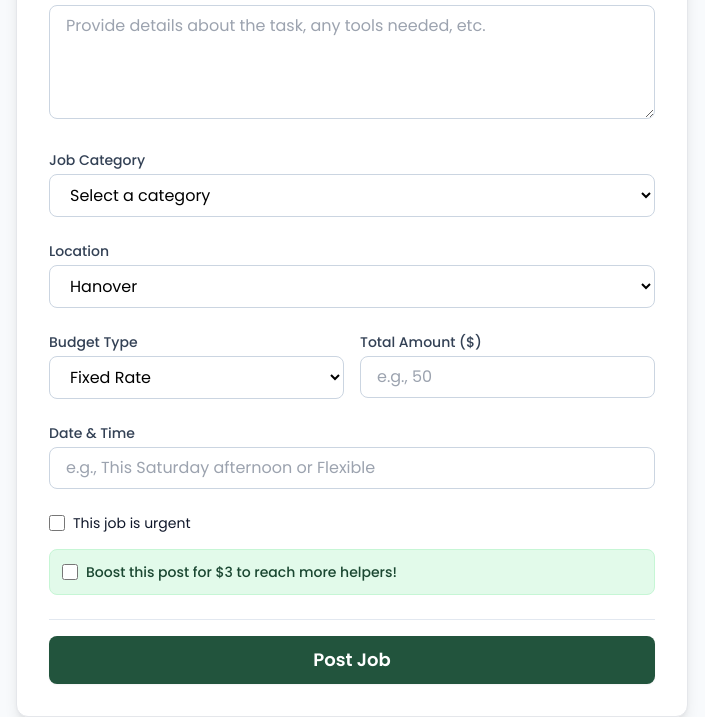
Test: PostJobPage › shows validation errors when submitting an empty form
(page scrolled)
Find and click the submit button
Click the button "Post Job" at (352, 660), box 49,636 -> 655,684
(page scrolled)
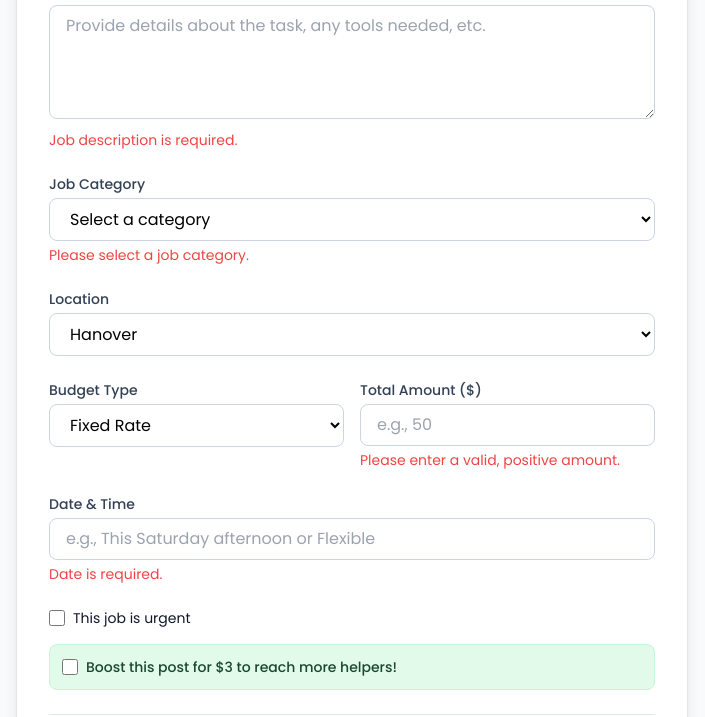
Expected: the text "Job description is required." is shown, 49,130 -> 237,150
Expected: the text "Please select a job category." is shown, 49,245 -> 249,265
Expected: the text "Please enter a valid, positive amount." is shown, 360,450 -> 655,470
